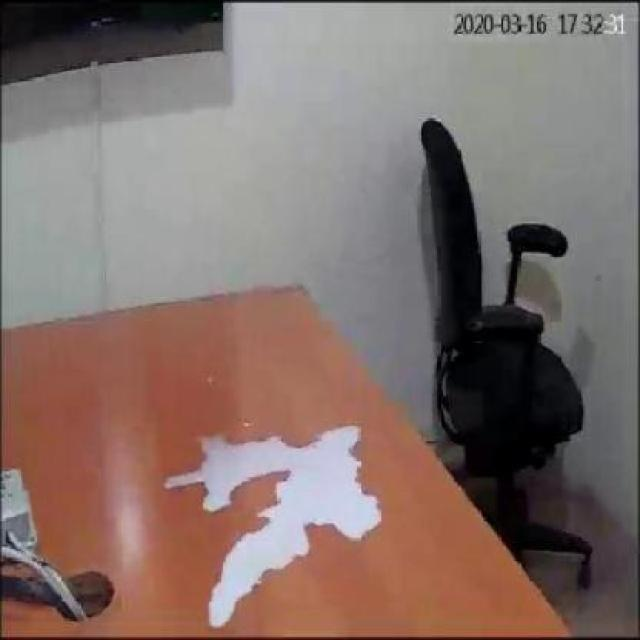spillage: (163, 426, 380, 628)
